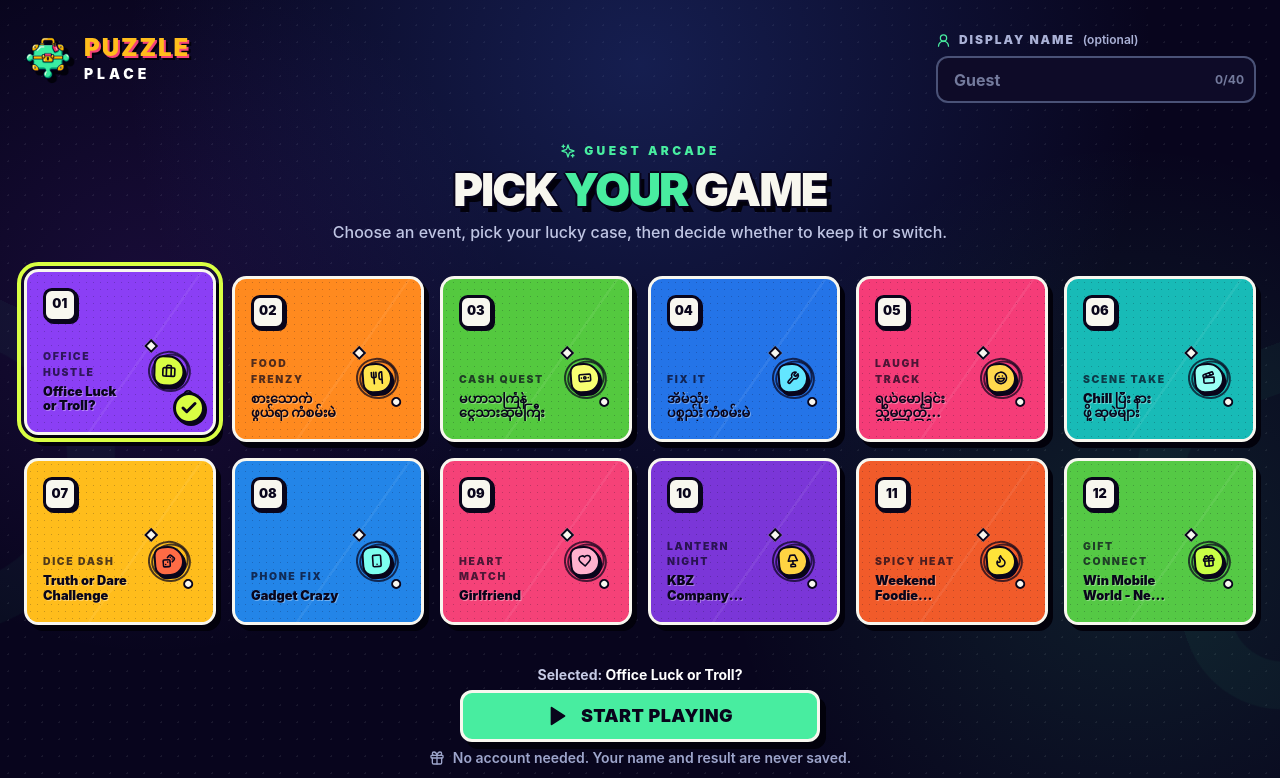
guest session › lets the guest choose a game event
The width and height of the screenshot is (1280, 778).
Click the button with aria-label "Choose မဟာသင်္ကြန် ငွေသားဆုမဲကြီး" at (536, 359), box [440,276,632,442]
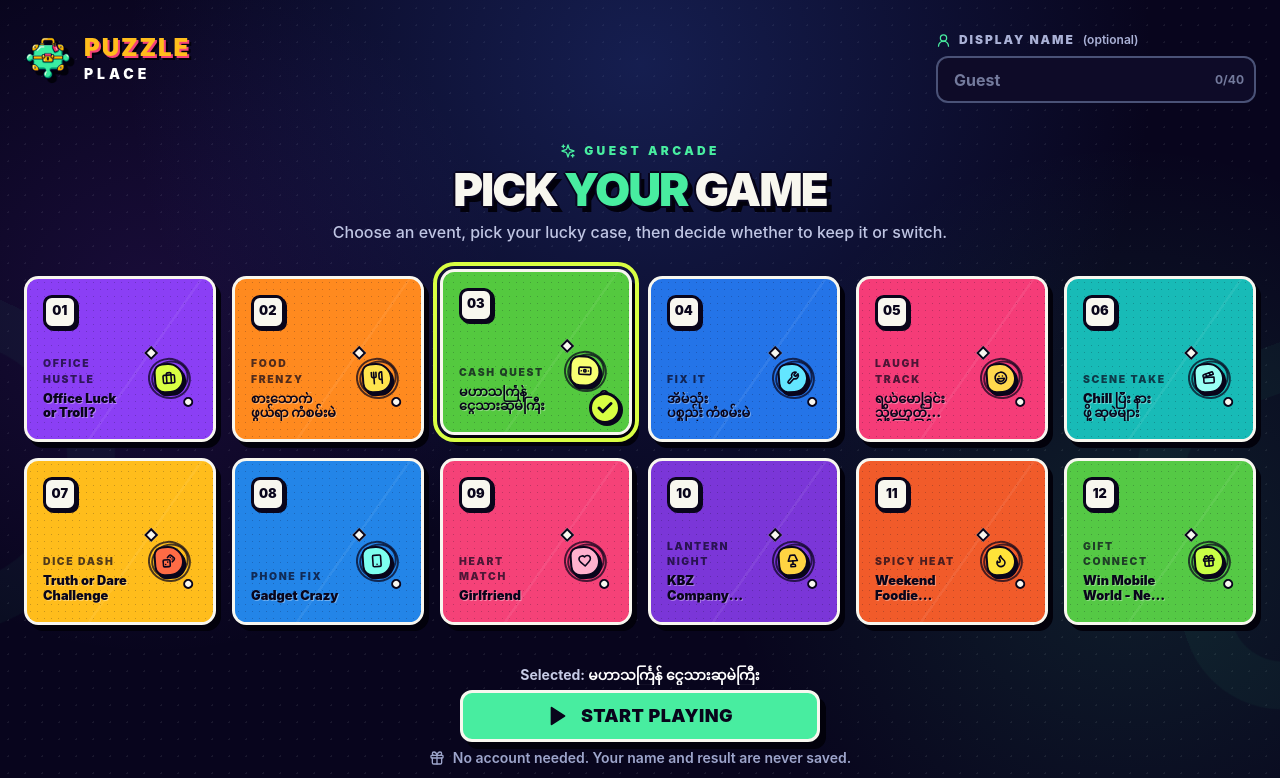
expect the button with aria-label "Choose မဟာသင်္ကြန် ငွေသားဆုမဲကြီး" is pressed: met, box [440,269,632,435]
Click the button "Start playing" at (640, 716), box [460,690,820,742]
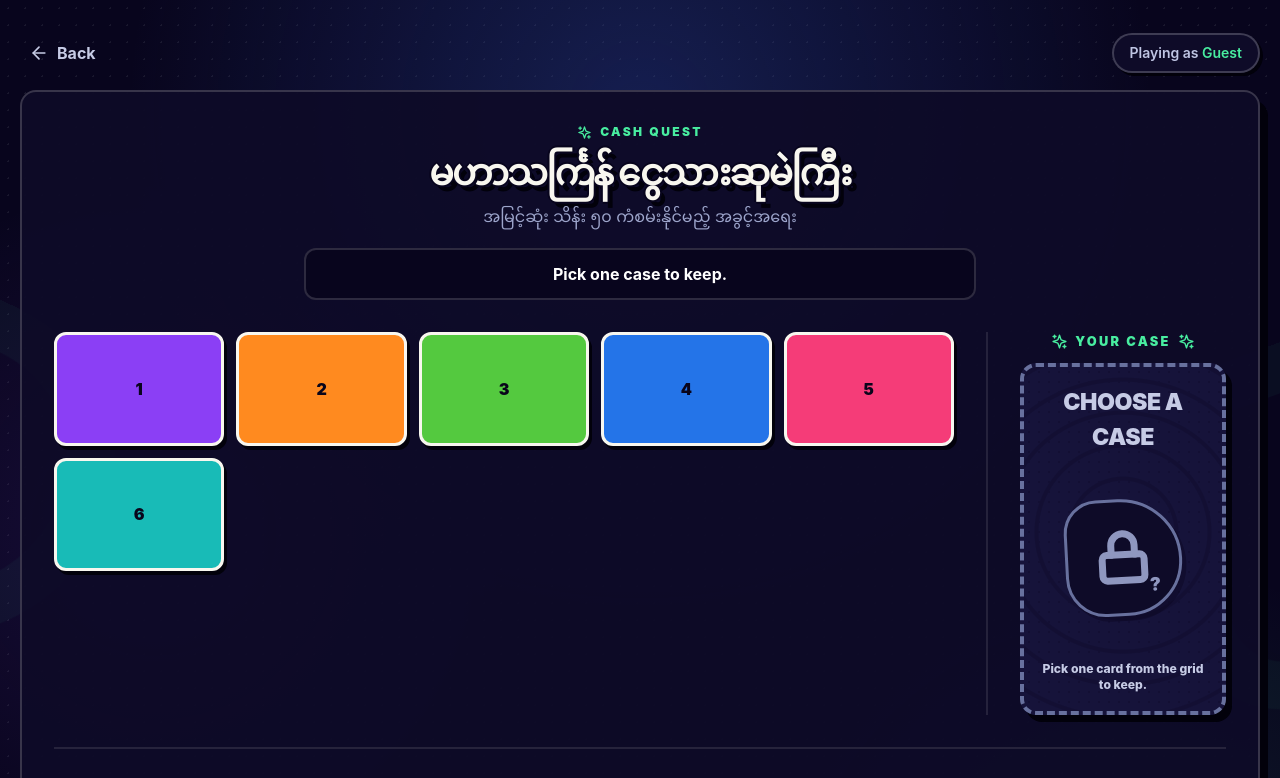
expect the heading "မဟာသင်္ကြန် ငွေသားဆုမဲကြီး" is shown: met, box [429,150,851,194]
expect the button named "Case 6" is shown: met, box [54,458,224,571]
